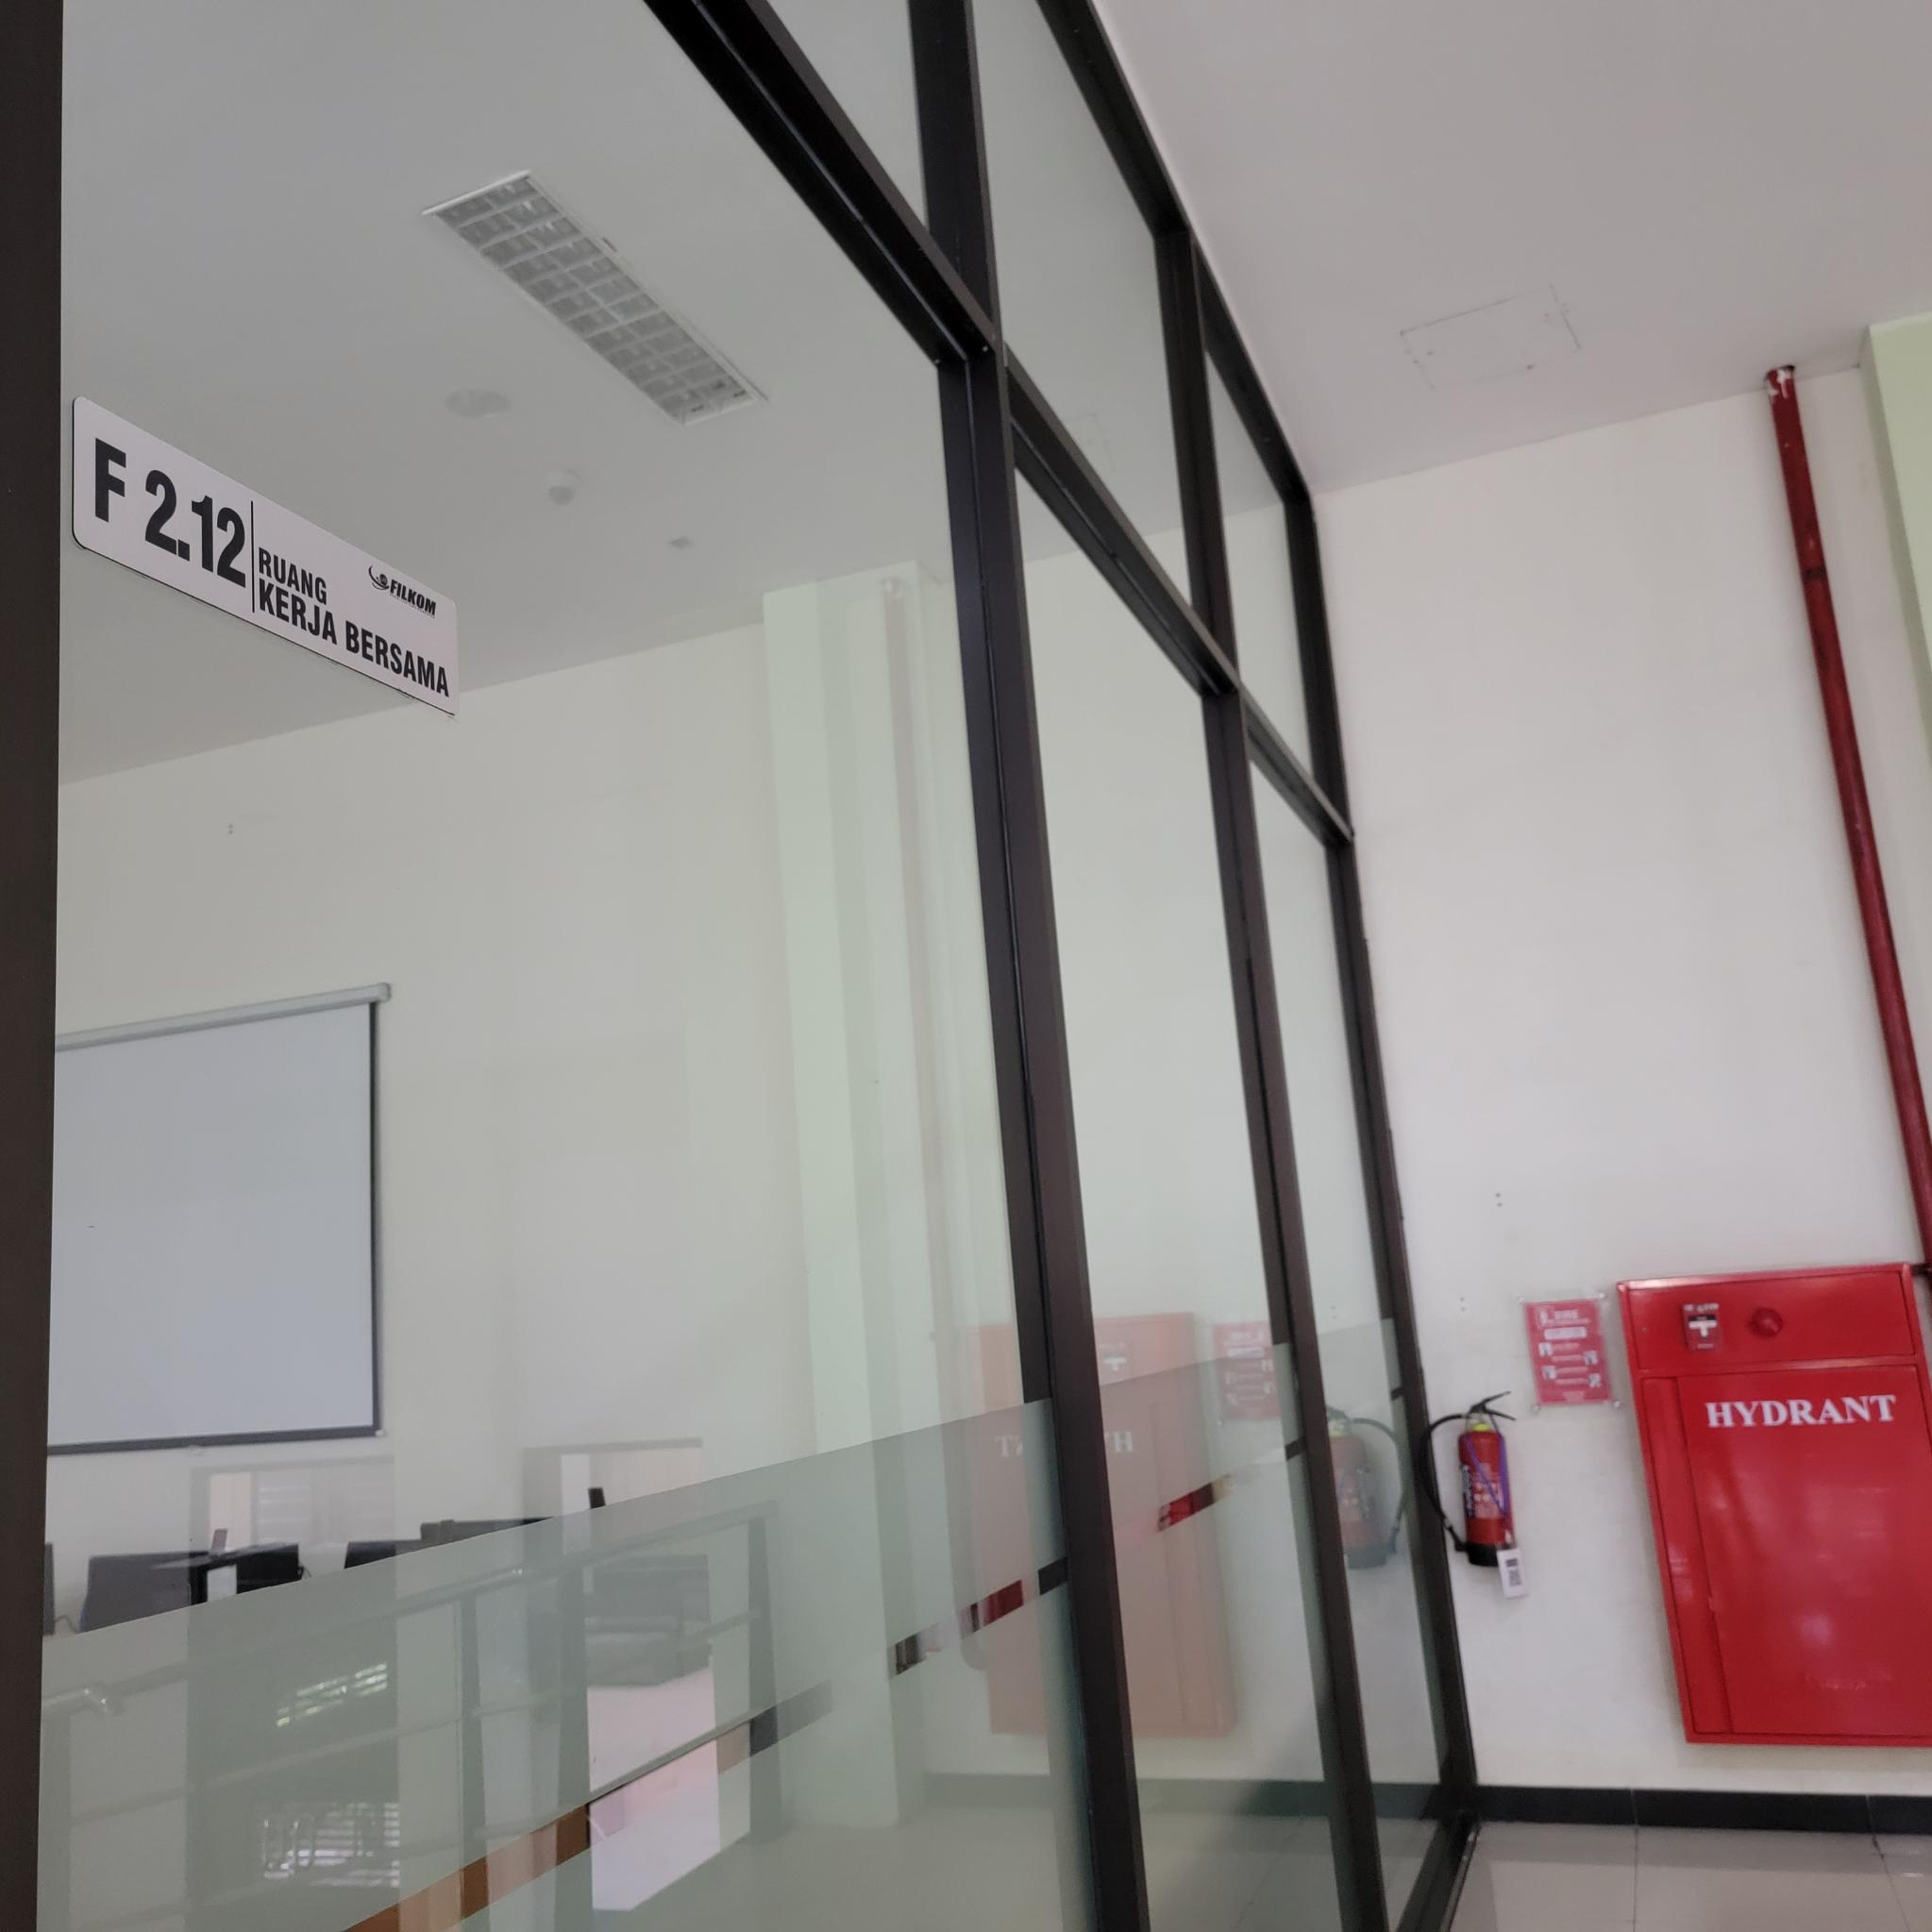plate: (74, 382, 462, 722)
